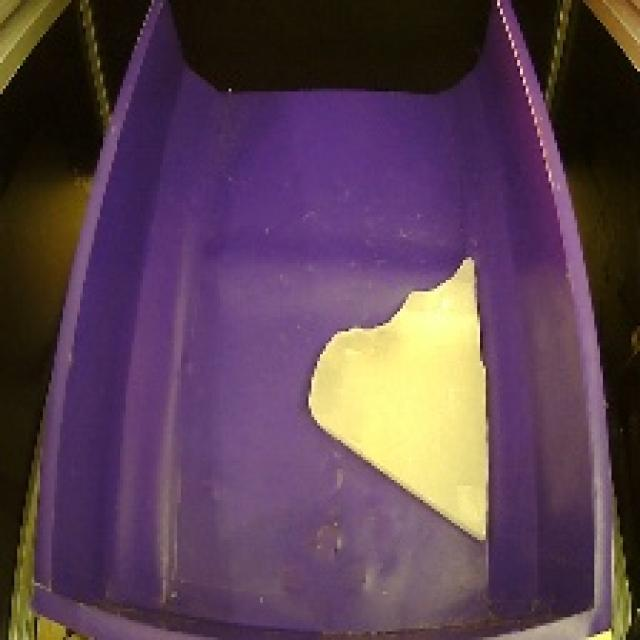china: (296, 248, 502, 553)
